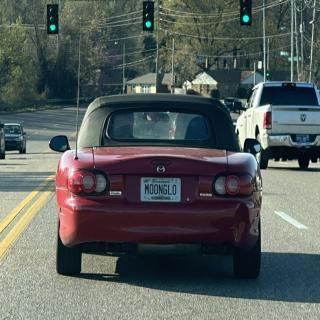license: (141, 178, 182, 204)
